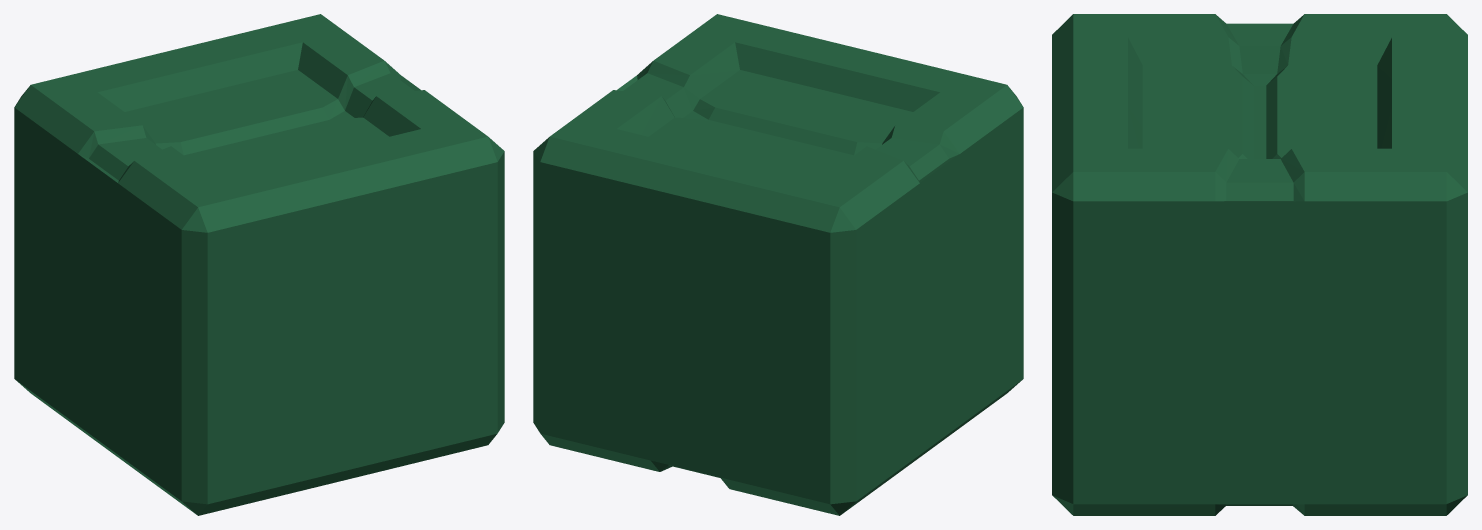
3 views of the same model, side by side, from view 1: azimuth 30°, elevation 25°; view 2: azimuth 150°, elevation 25°; view 3: azimuth 270°, elevation 25° (orthographic). The views are drawn at different scales.
Visible parts, largest first — view 1: 002_Cube_005; view 2: 002_Cube_005; view 3: 002_Cube_005.
Boxes of the visible parts, x1,y1,x2,y2 form: 002_Cube_005: (14, 14, 504, 515); 002_Cube_005: (533, 14, 1023, 515); 002_Cube_005: (1052, 14, 1467, 515).
Size of the model in its own units: 29.14 by 26.61 by 29.14.
